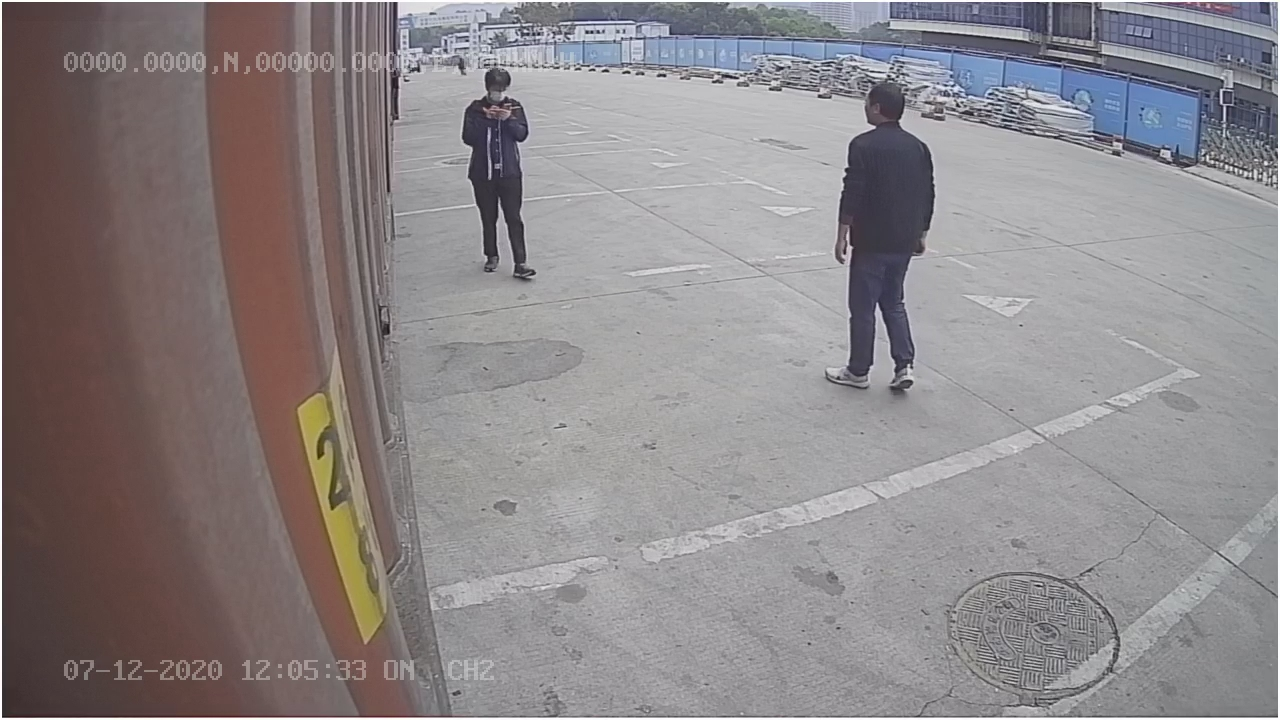person: (805, 76, 938, 395)
